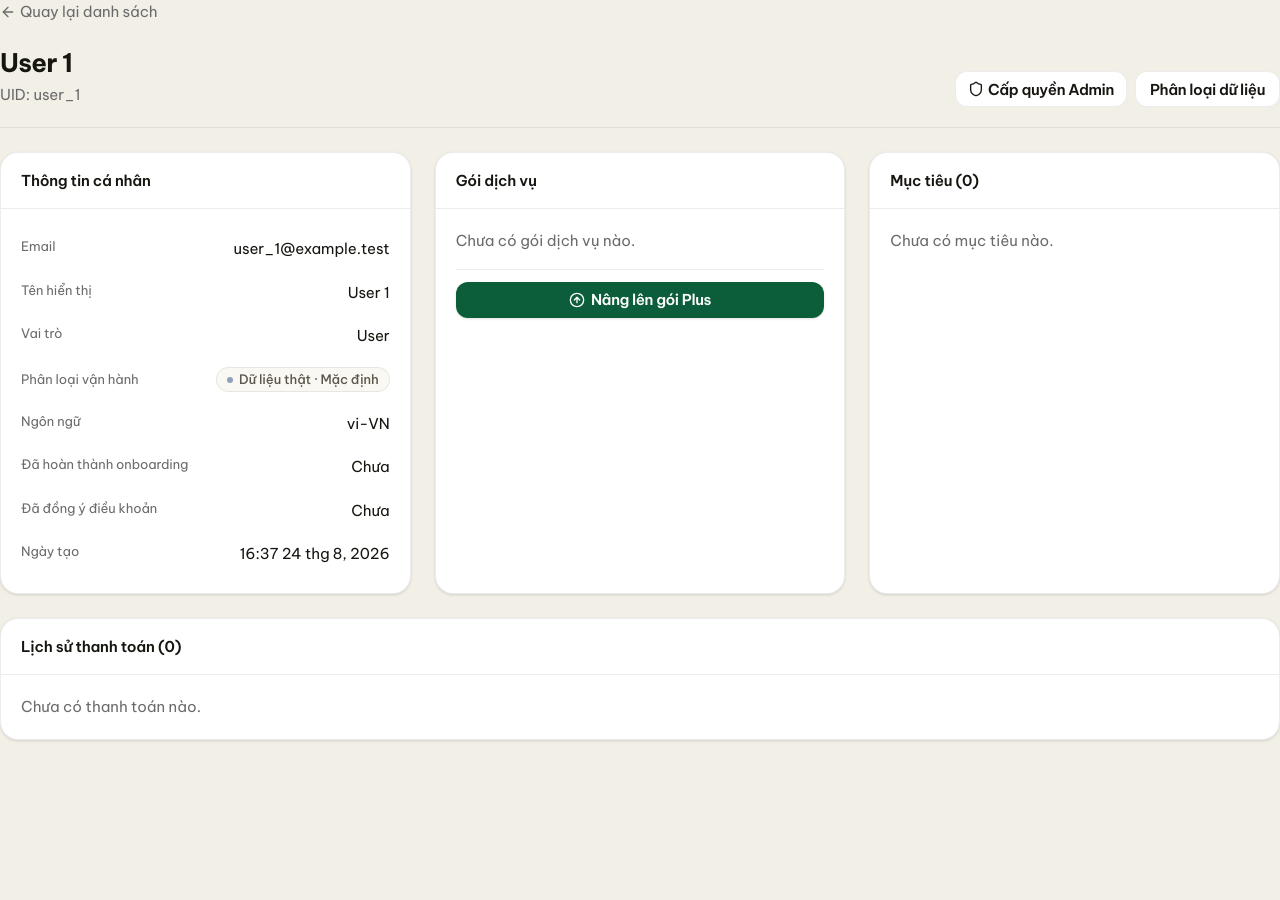
AdminUserDetailPage role confirmation › keeps role failure visible inside the confirmation dialog
The width and height of the screenshot is (1280, 900).
Step 1. Click the button "Cấp quyền Admin" → (1041, 89), box [955,71,1127,107]
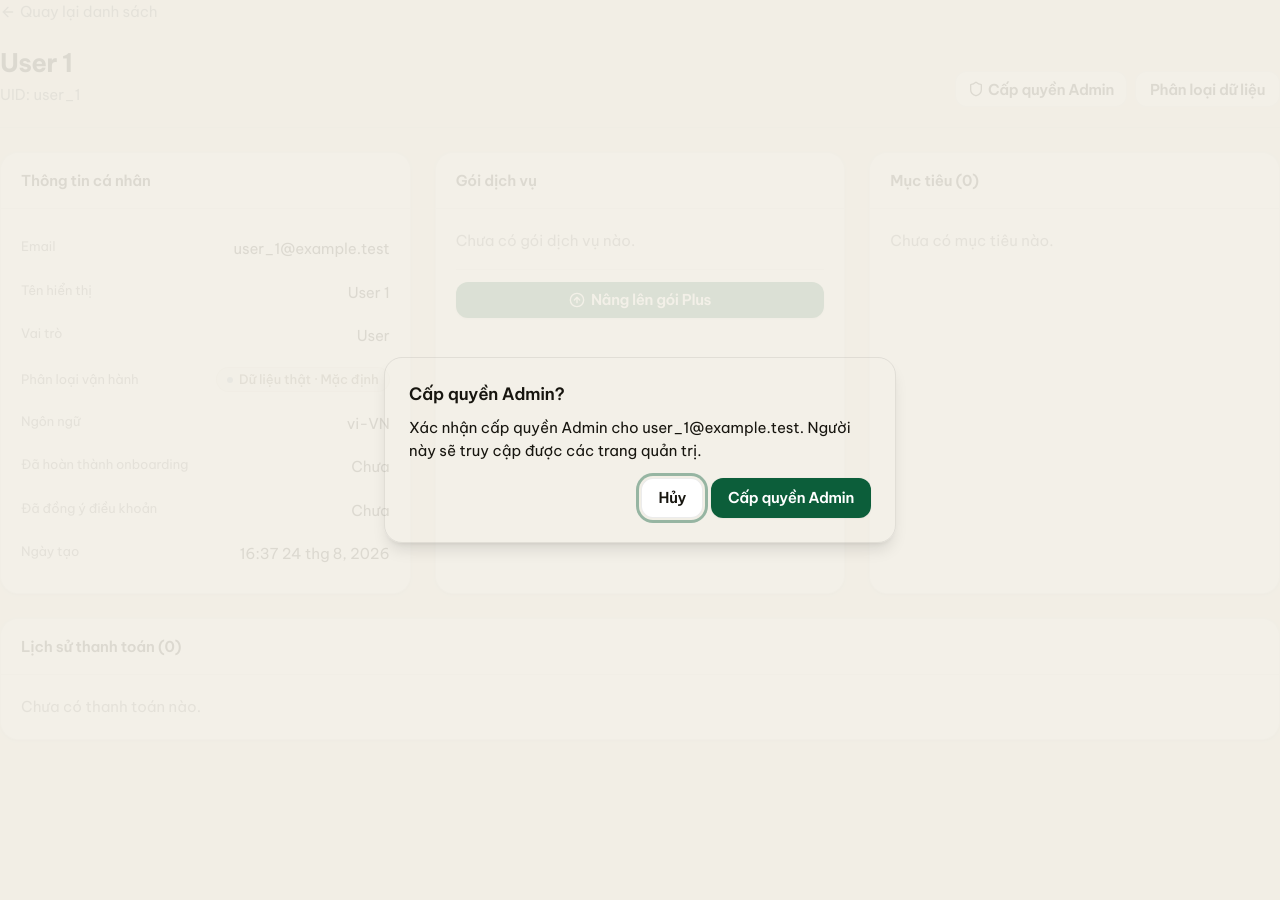
Step 2. Click the button "Cấp quyền Admin" → (791, 498), box [711,478,871,518]
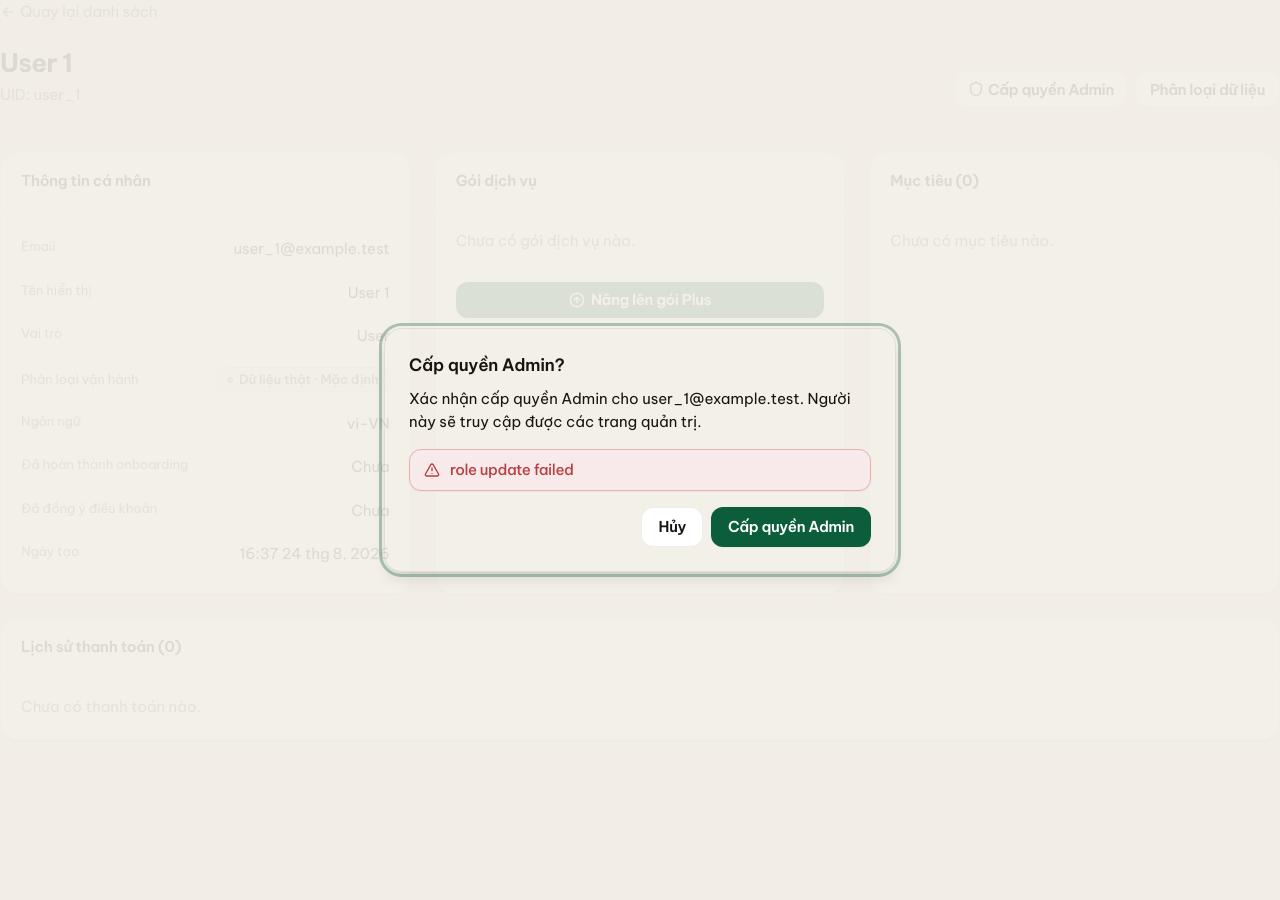
Now the dialog "Cấp quyền Admin?" is shown, box [384,328,896,572]
Now the message reads "role update failed", box [450,460,574,479]
